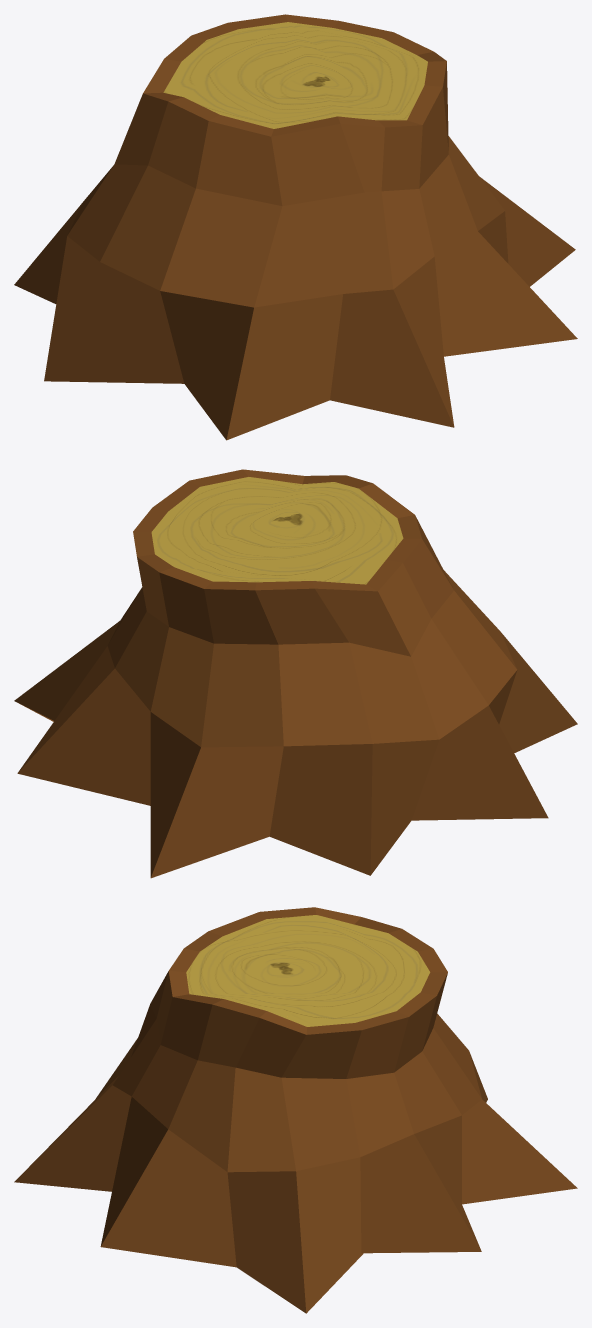
The model's file is stump.fbx.
3 views of the same model, one above another, from view 1: azimuth 30°, elevation 25°; view 2: azimuth 150°, elevation 25°; view 3: azimuth 270°, elevation 25° (orthographic). The views are drawn at different scales.
Visible parts, largest first — view 1: Stump; view 2: Stump; view 3: Stump.
Boxes of the visible parts, bbox=[...] form: Stump: bbox=[14, 14, 577, 440]; Stump: bbox=[14, 469, 577, 878]; Stump: bbox=[14, 907, 577, 1313].
Size of the model in its own units: 5334 by 2383 by 5222.
2 materials, 1 textured.
